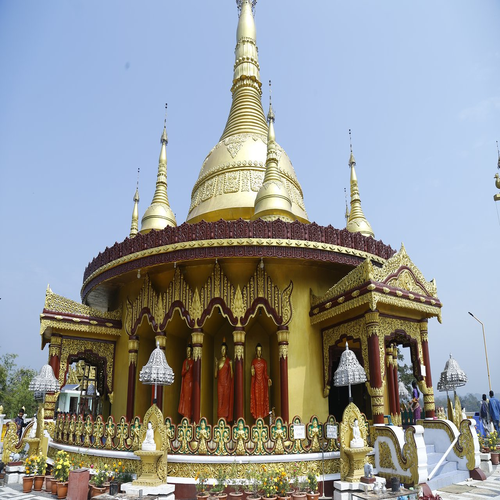Temple: (28, 7, 453, 458)
